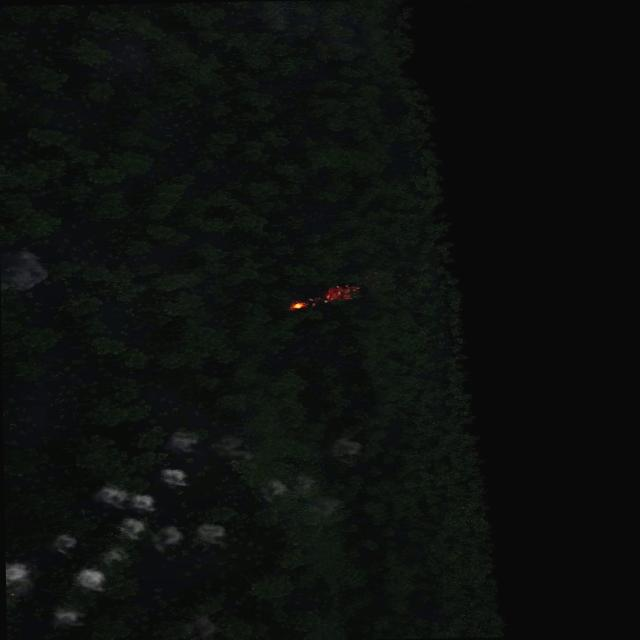fire: (321, 284, 357, 301), (288, 296, 318, 311)
smoke: (95, 471, 234, 576), (0, 247, 46, 290), (258, 478, 310, 499), (4, 558, 31, 594), (212, 436, 248, 460), (326, 438, 361, 462), (74, 566, 104, 590), (166, 430, 198, 452), (158, 466, 188, 488), (50, 606, 83, 626), (196, 523, 226, 545), (312, 498, 344, 518), (155, 524, 181, 548), (51, 534, 77, 554), (191, 618, 218, 636)
